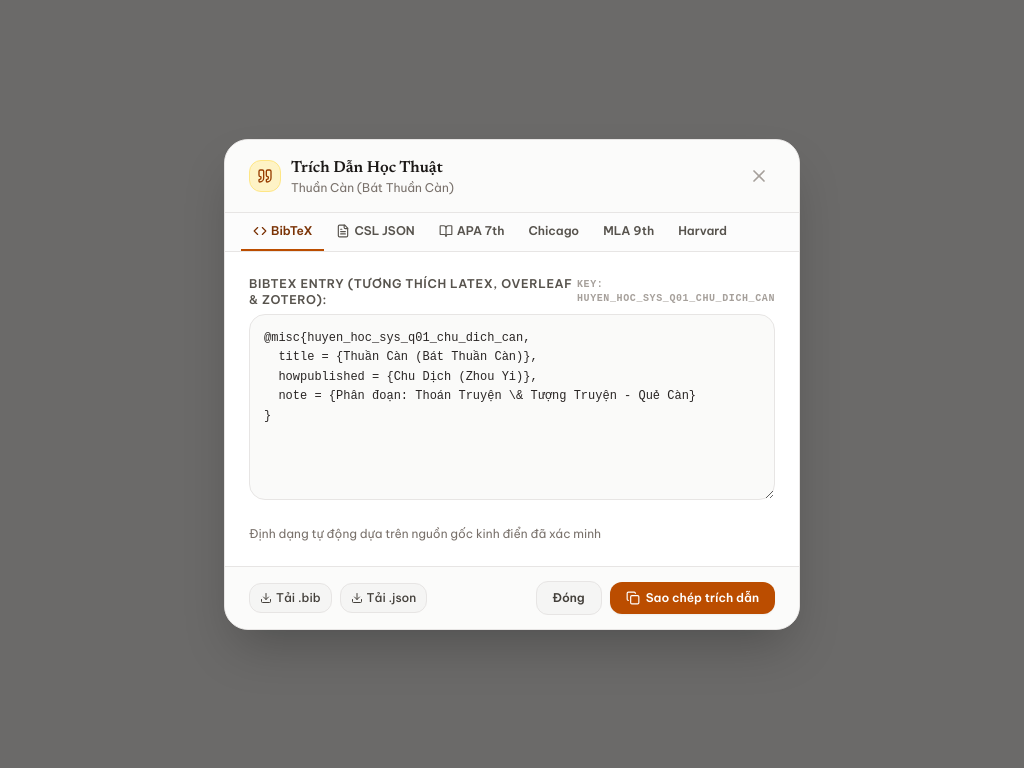
Test: Phase D: Scholar Citation Modal UI Component › 6. Works with SystemNode entity (I Ching)
Expected: the text "Thuần Càn (Bát Thuần Càn)" is shown, [291, 180, 454, 196]
Click the button "Chicago" at (554, 232), box [516, 212, 591, 250]
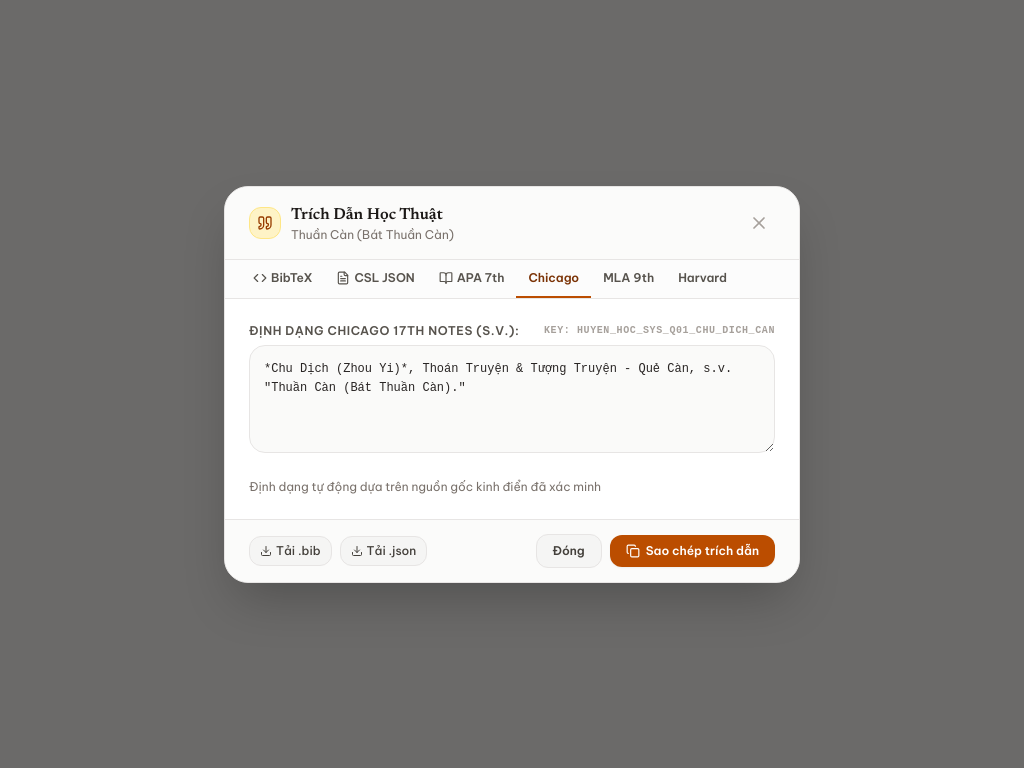
Now the text box with test id "scholar-citation-preview" holds "*Chu Dịch (Zhou Yi)*, Thoán Truyện & Tượng Truyện - Quẻ Càn, s.v. \"Thuần Càn (Bát Thuần Càn).\"", box [249, 344, 775, 452]
